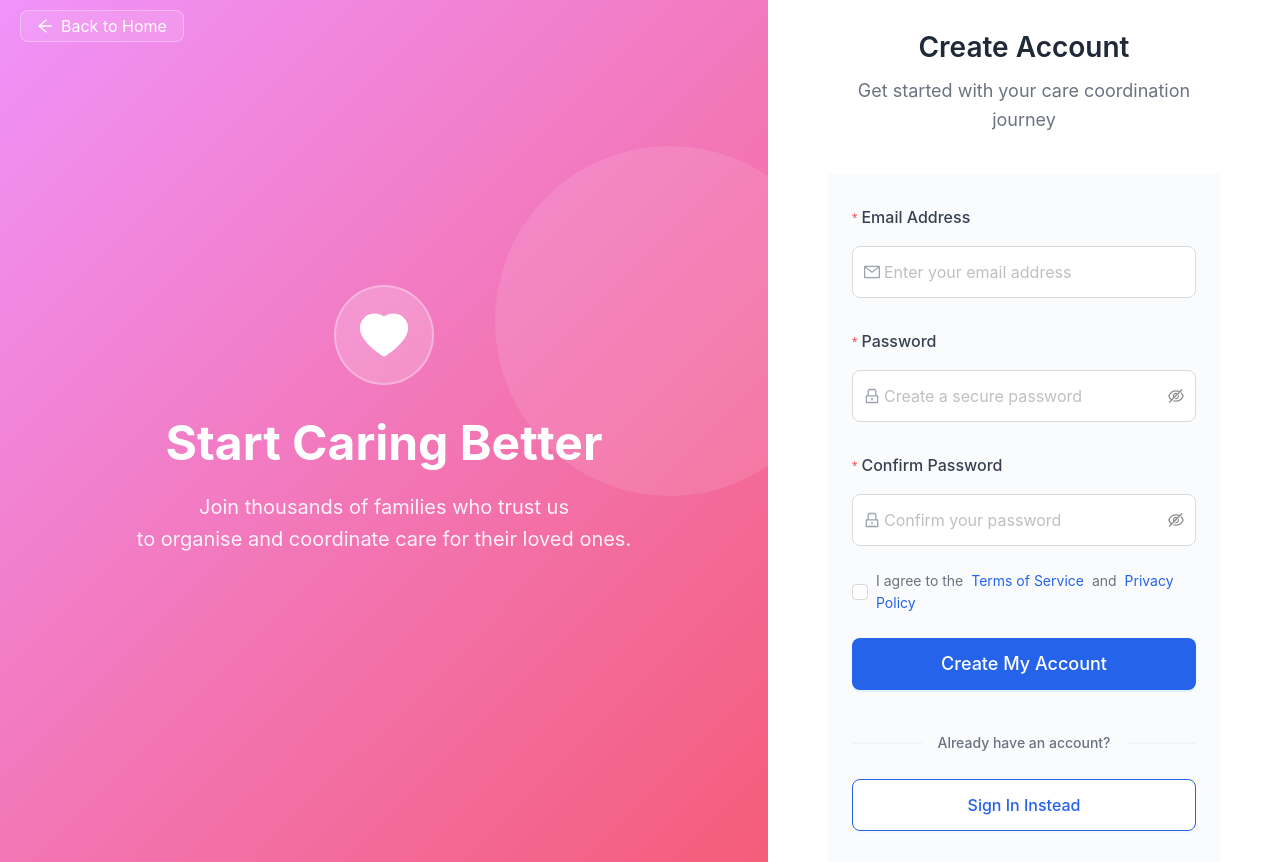
Test case: Signup Component › error message if passwords do not match
The image size is (1280, 862).
Type "password123" into the password field with placeholder "Create a secure password" at (1024, 396), box [884,378,1164,414]
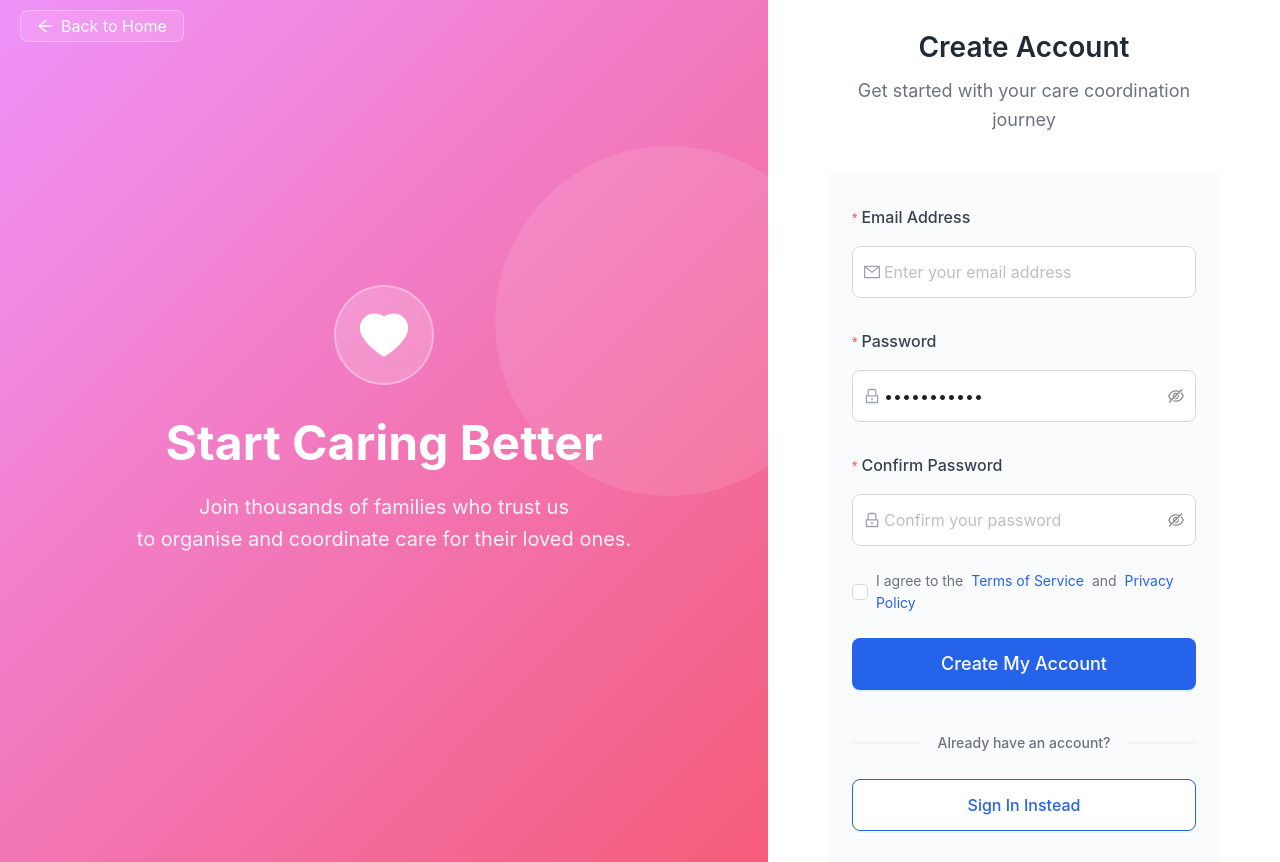
Type "differentpass" into the password field with placeholder "Confirm your password" at (1024, 520), box [884,502,1164,538]
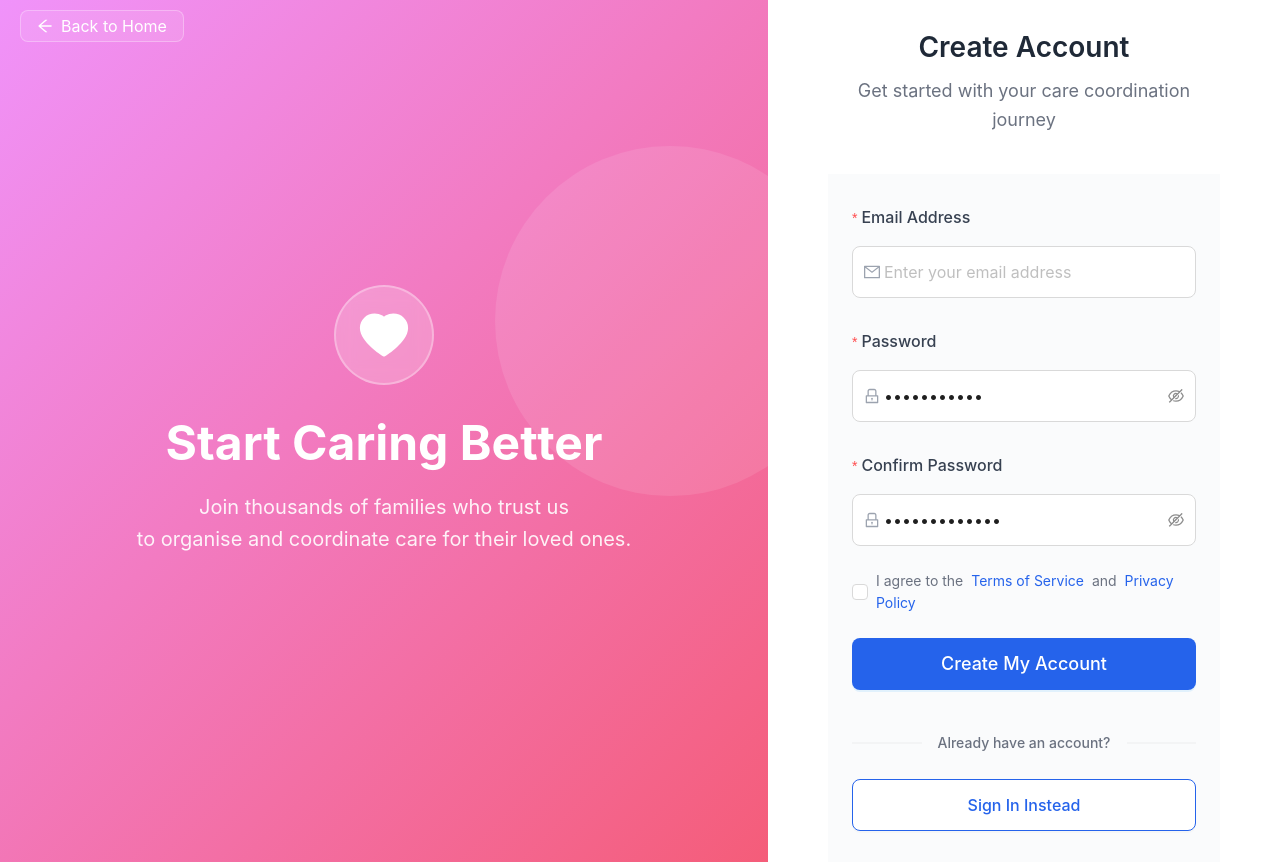
Click the button "Create My Account" at (1024, 664), box [852,638,1196,690]
(page scrolled)
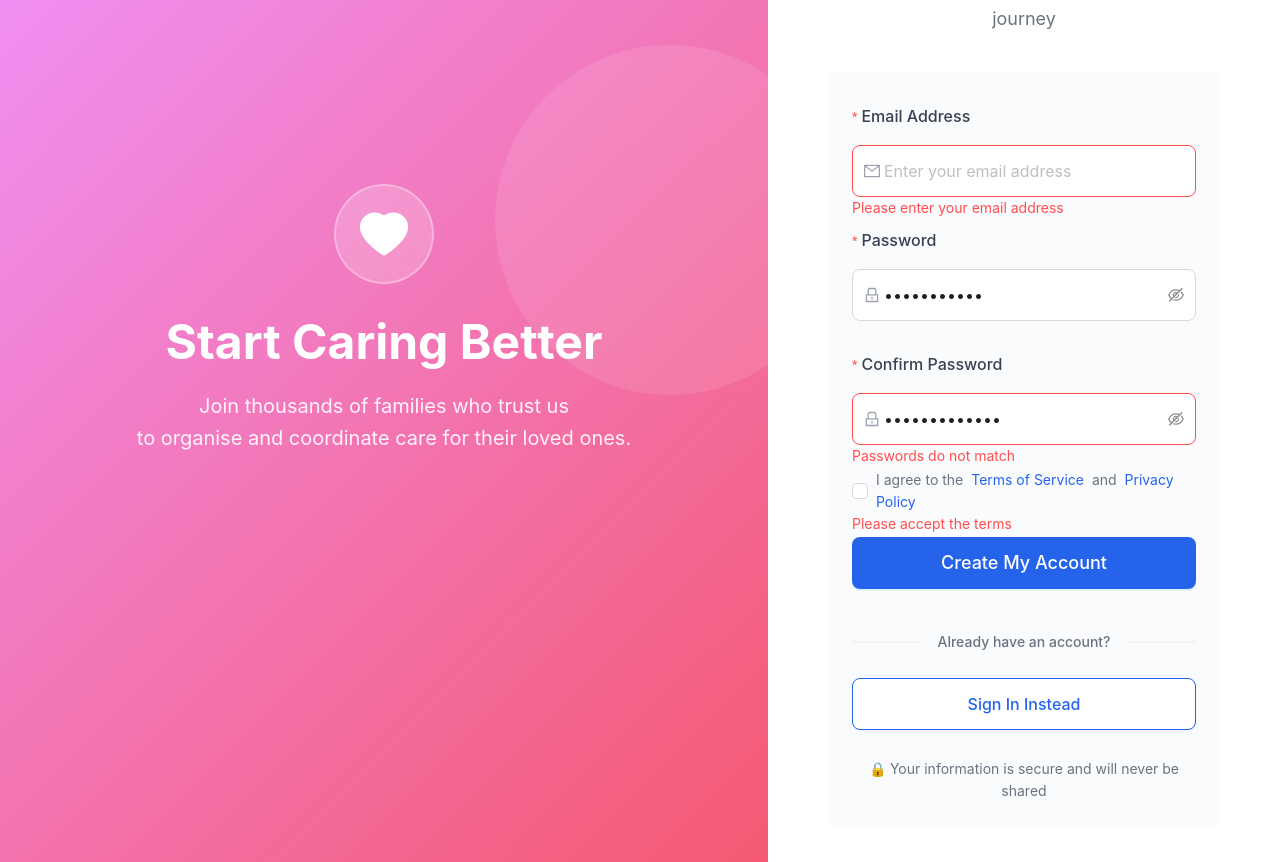
Expected: the text "Passwords do not match" is shown, [852,447,1015,464]
